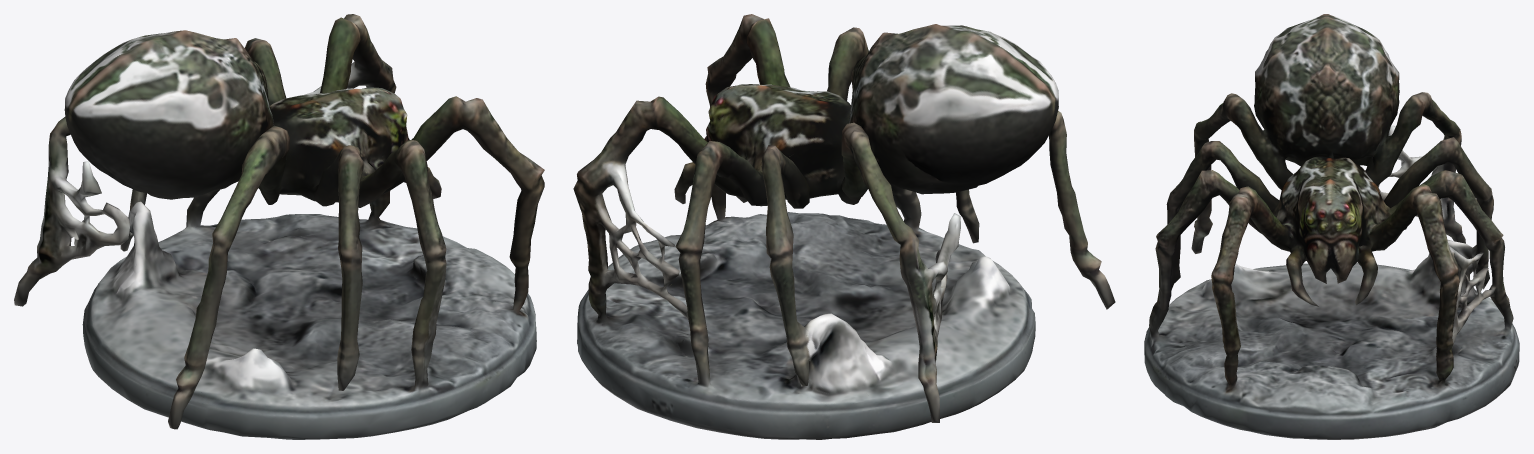
The model's file is giantspider.glb.
The picture shows the model from 3 angles, left to right: view 1: azimuth 30°, elevation 25°; view 2: azimuth 150°, elevation 25°; view 3: azimuth 270°, elevation 25°; orthographic projection. The views are drawn at different scales.
Parts seen in each view (by area): view 1: lagrange_node; view 2: lagrange_node; view 3: lagrange_node.
Part boxes in pixels (bbox=[...]): lagrange_node: bbox=[14, 14, 544, 439]; lagrange_node: bbox=[573, 14, 1115, 439]; lagrange_node: bbox=[1144, 14, 1519, 439].
Bounding box in the file's own units: 1.95 × 1.48 × 1.76.
Materials: 1 (1 with a texture image).
